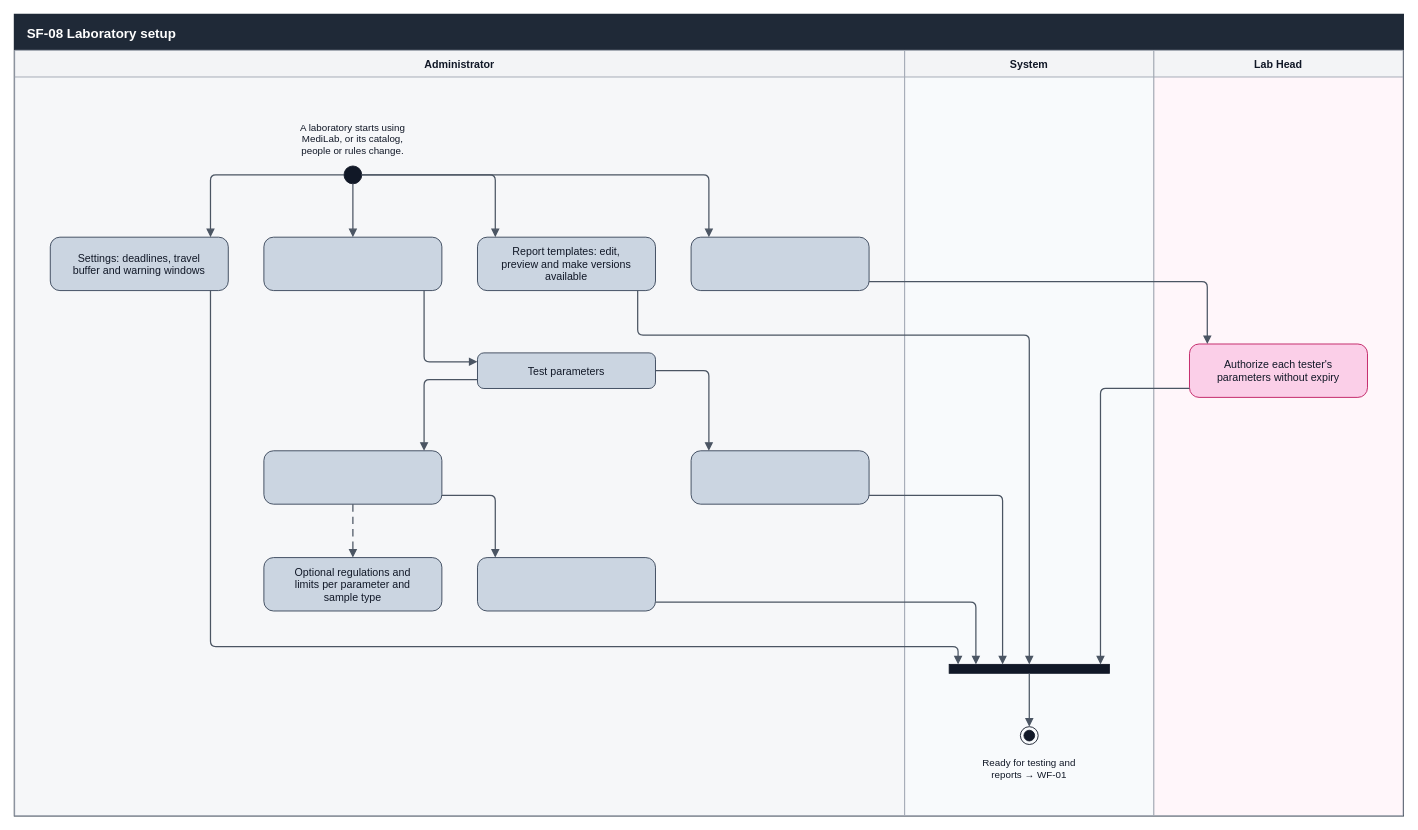
Some shapes in this 1418 by 830 pixel diagram are drawn without their labels. Each missing label, with the centre of its shape:
People, roles and approval chains: pixel 779 263
Prices, taxes and service packages: pixel 779 477
Sampling requirements and required resources: pixel 566 584
Units, sample types and parameter groups: pixel 352 263
Ways and explicit type applicability: unit, LOD, LOQ and default: pixel 352 477
